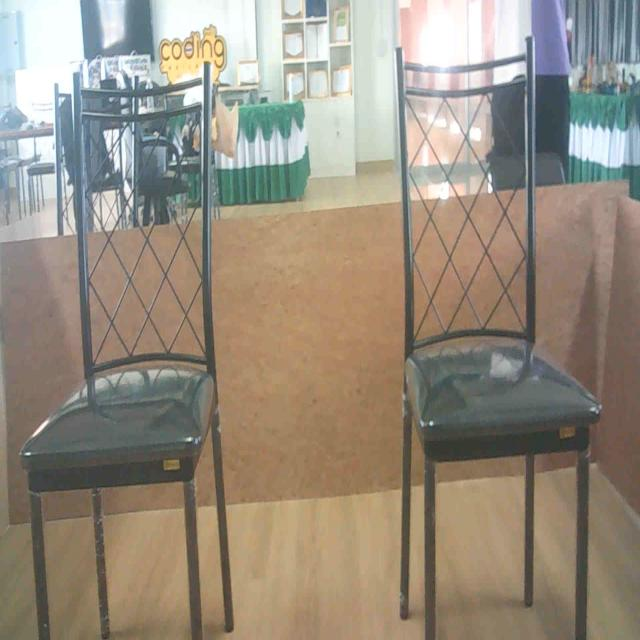empty: (385, 34, 608, 475), (13, 68, 222, 495)
